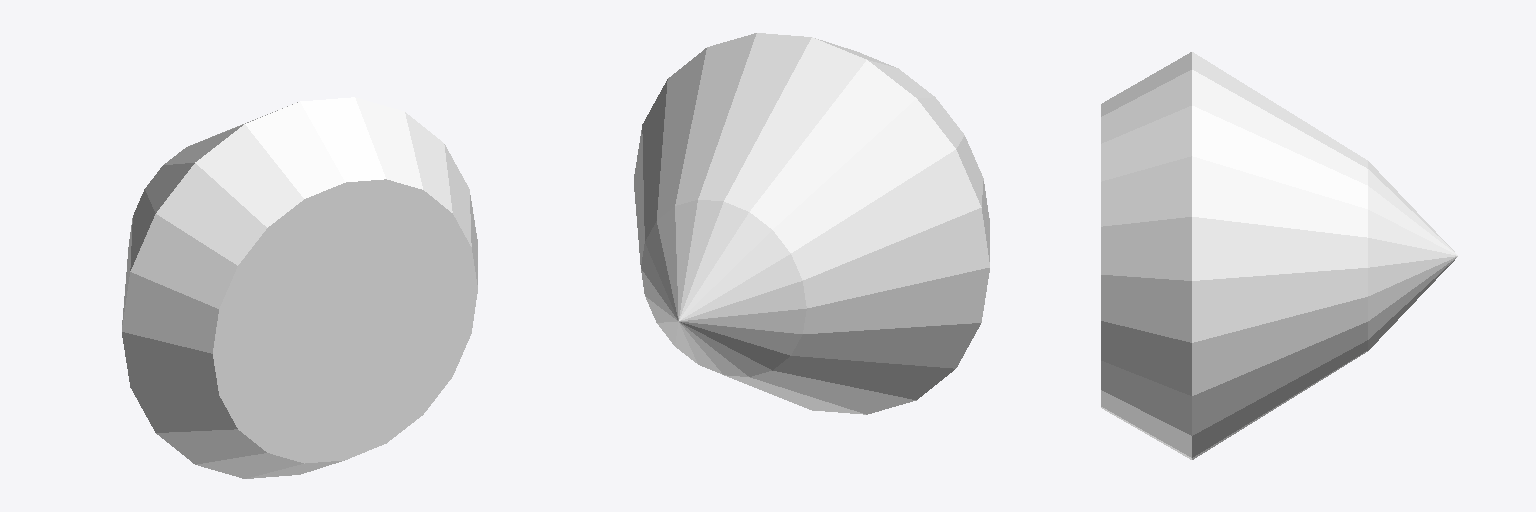
3 views of the same model, side by side, from view 1: azimuth 30°, elevation 25°; view 2: azimuth 150°, elevation 25°; view 3: azimuth 270°, elevation 25° (orthographic).
Visible parts, largest first — view 1: StatuesObject; view 2: StatuesObject; view 3: StatuesObject.
Boxes of the visible parts, x1=… form: StatuesObject: x1=122, y1=97, x2=477, y2=478; StatuesObject: x1=634, y1=33, x2=989, y2=414; StatuesObject: x1=1101, y1=52, x2=1457, y2=459.
Size of the model in its own units: 19.01 by 19.01 by 16.5.